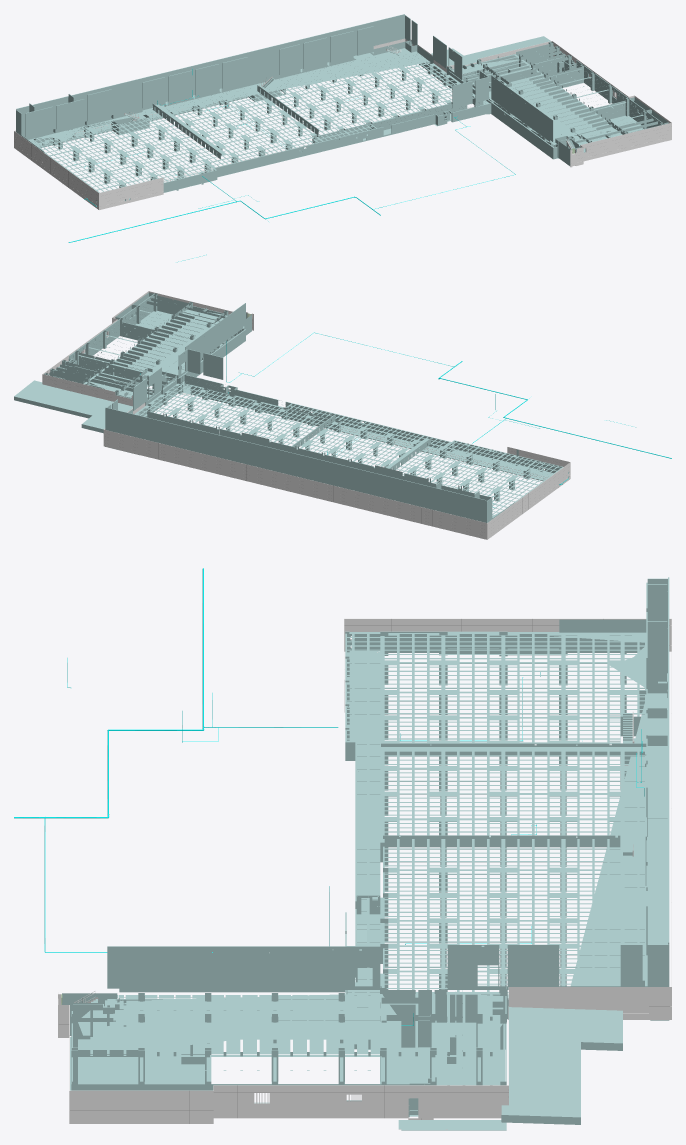
The model's file is storey-2-1f.glb.
3 views of the same model, one above another, from view 1: azimuth 30°, elevation 25°; view 2: azimuth 150°, elevation 25°; view 3: azimuth 270°, elevation 25° (orthographic). The views are drawn at different scales.
Size of the model in its own units: 153 by 13.51 by 78.93.
